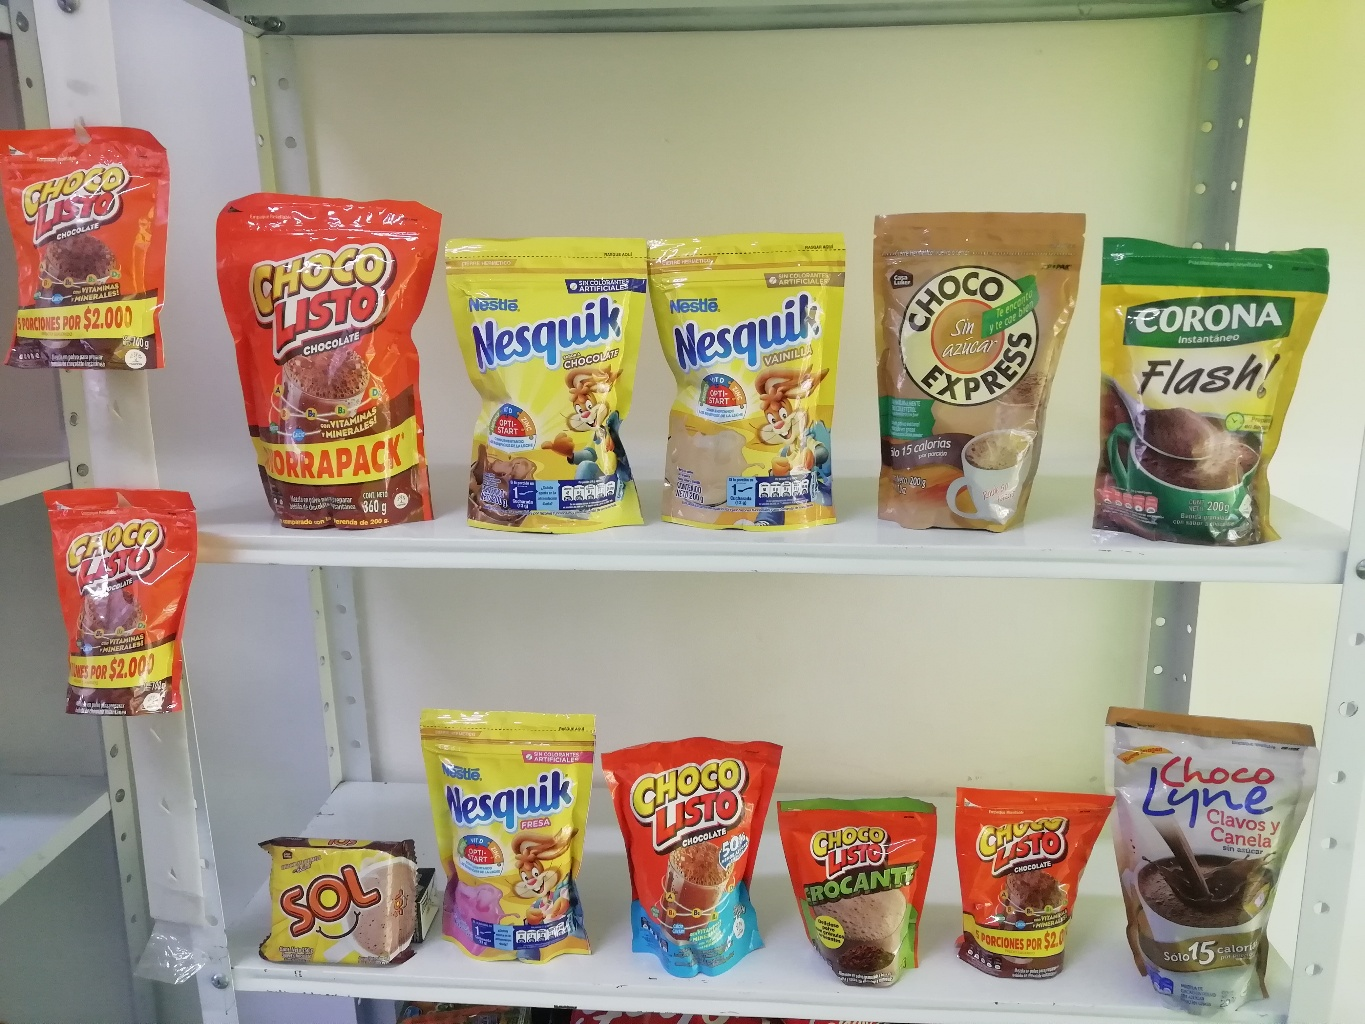COL0170102DYP10000: (777, 795, 939, 990)
COL0170103DYP10000: (1, 129, 175, 373)
COL0170103DYP36000: (213, 191, 444, 529)
COL0170104DYP20000: (599, 738, 796, 977)
COL0170303DYP20000: (444, 232, 650, 532)
COL0170305DYP20000: (416, 702, 609, 966)
COL0170306DYP20000: (652, 233, 847, 534)
